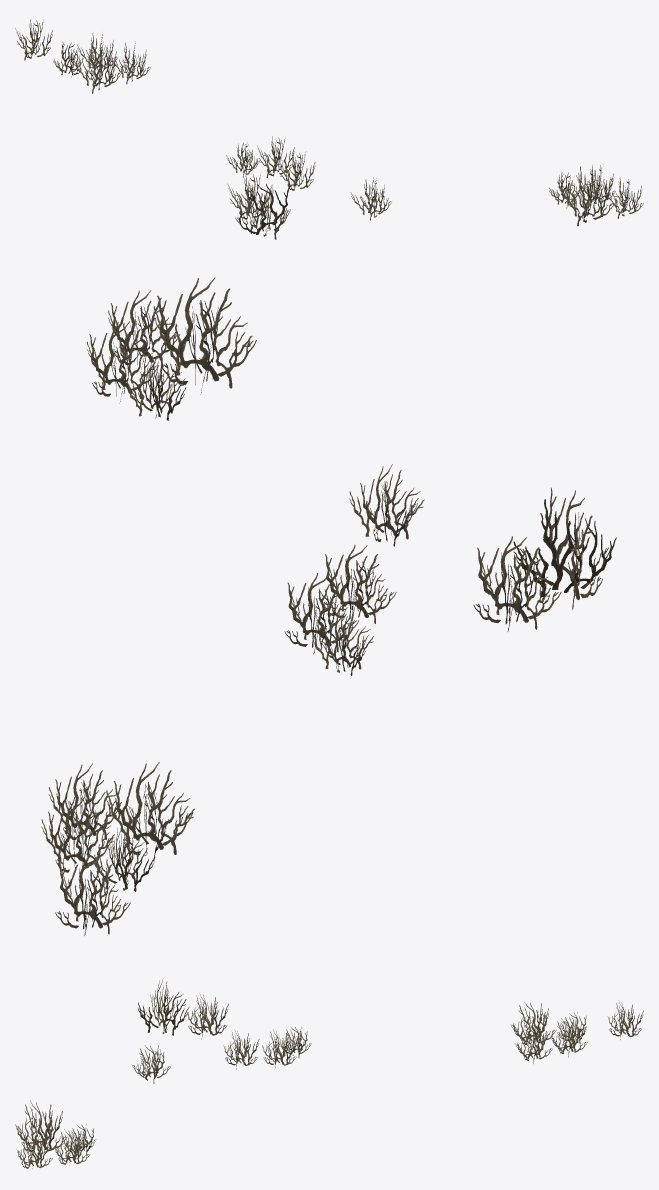
File: Area_05_9.fbx
3 renders of one model, top to bottom at view 1: azimuth 30°, elevation 25°; view 2: azimuth 150°, elevation 25°; view 3: azimuth 270°, elevation 25°, orthographic. The views are drawn at different scales.
Parts seen in each view (by area): view 1: Area_05_9; view 2: Area_05_9; view 3: Area_05_9.
Boxes of the visible parts, x1,y1,x2,y2 form: Area_05_9: [15, 19, 643, 239]; Area_05_9: [41, 277, 616, 935]; Area_05_9: [15, 978, 643, 1168].
Size of the model in its own units: 2493 by 400 by 4257.
Materials: 1 (1 with a texture image).
